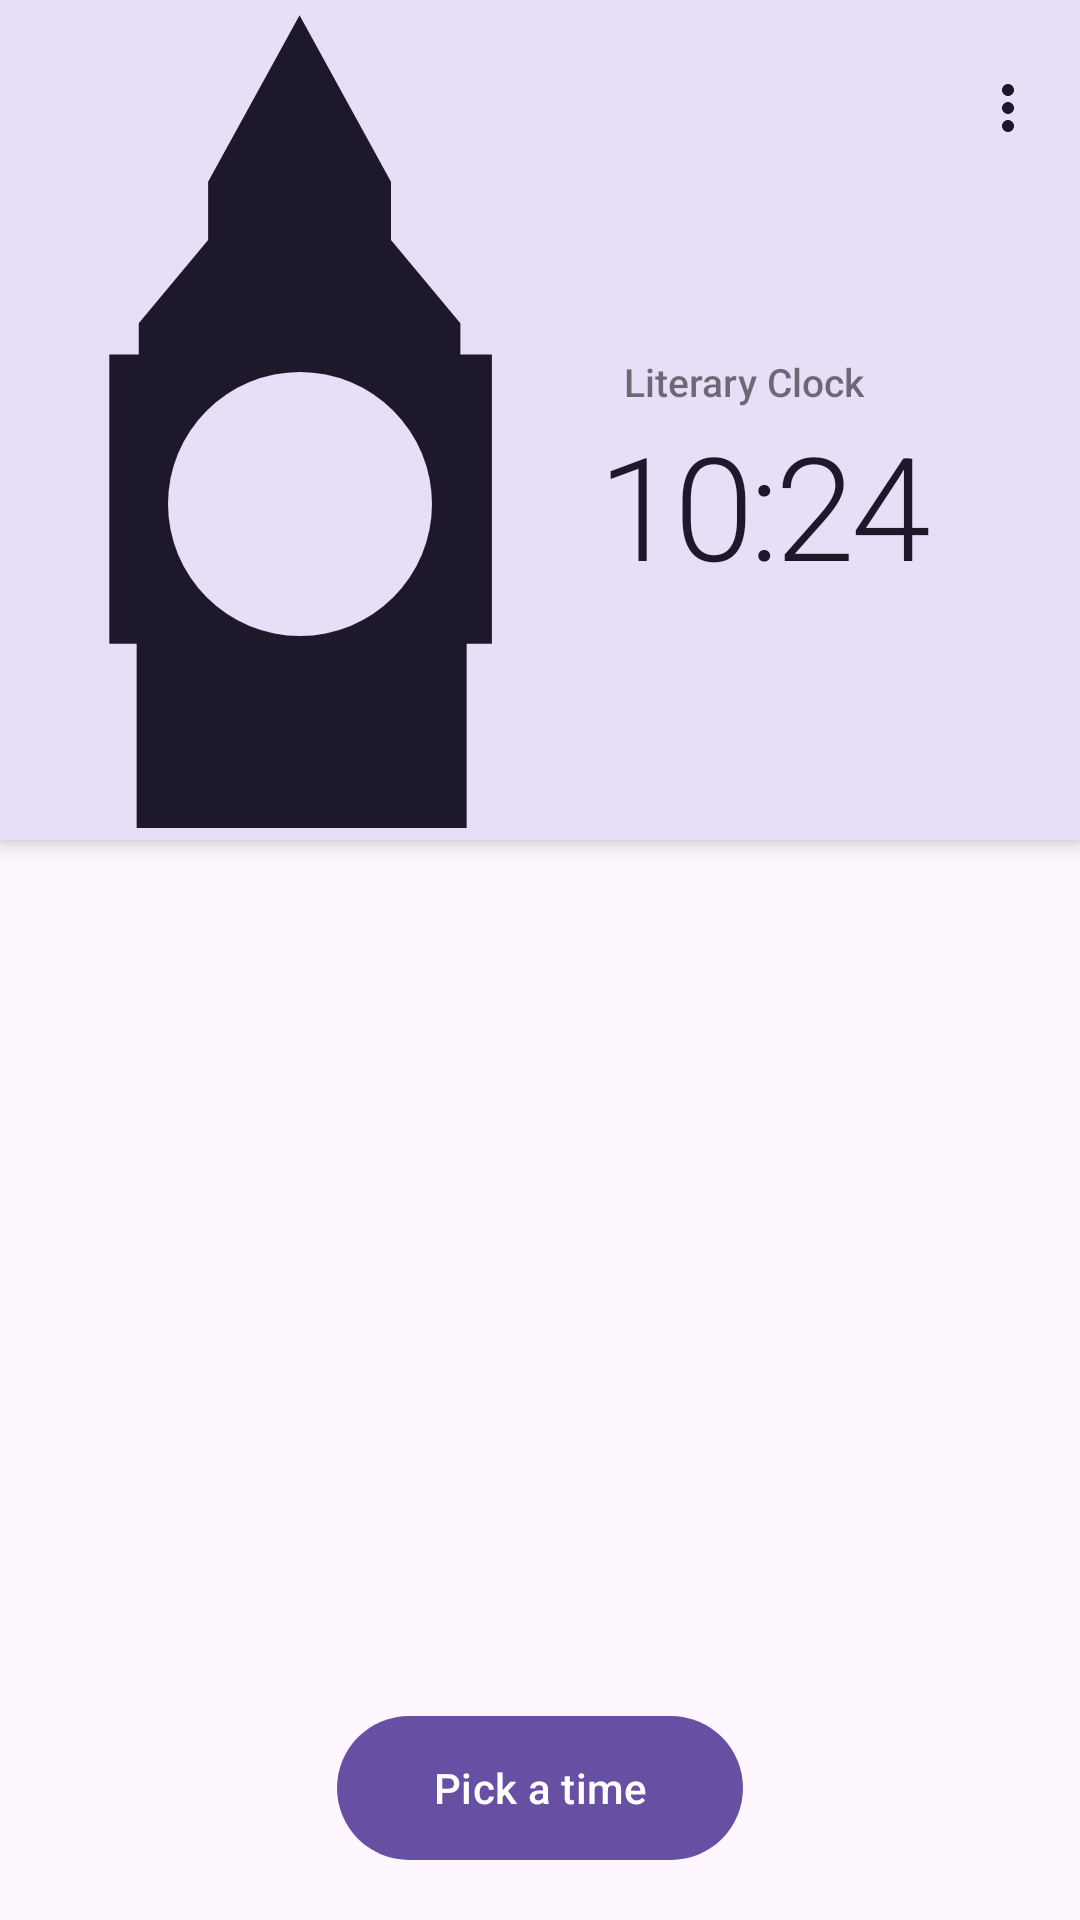

Named icons in this screenshot (1080px x 1920px) and their centers, [x,y]:
More options: [1008,108]
